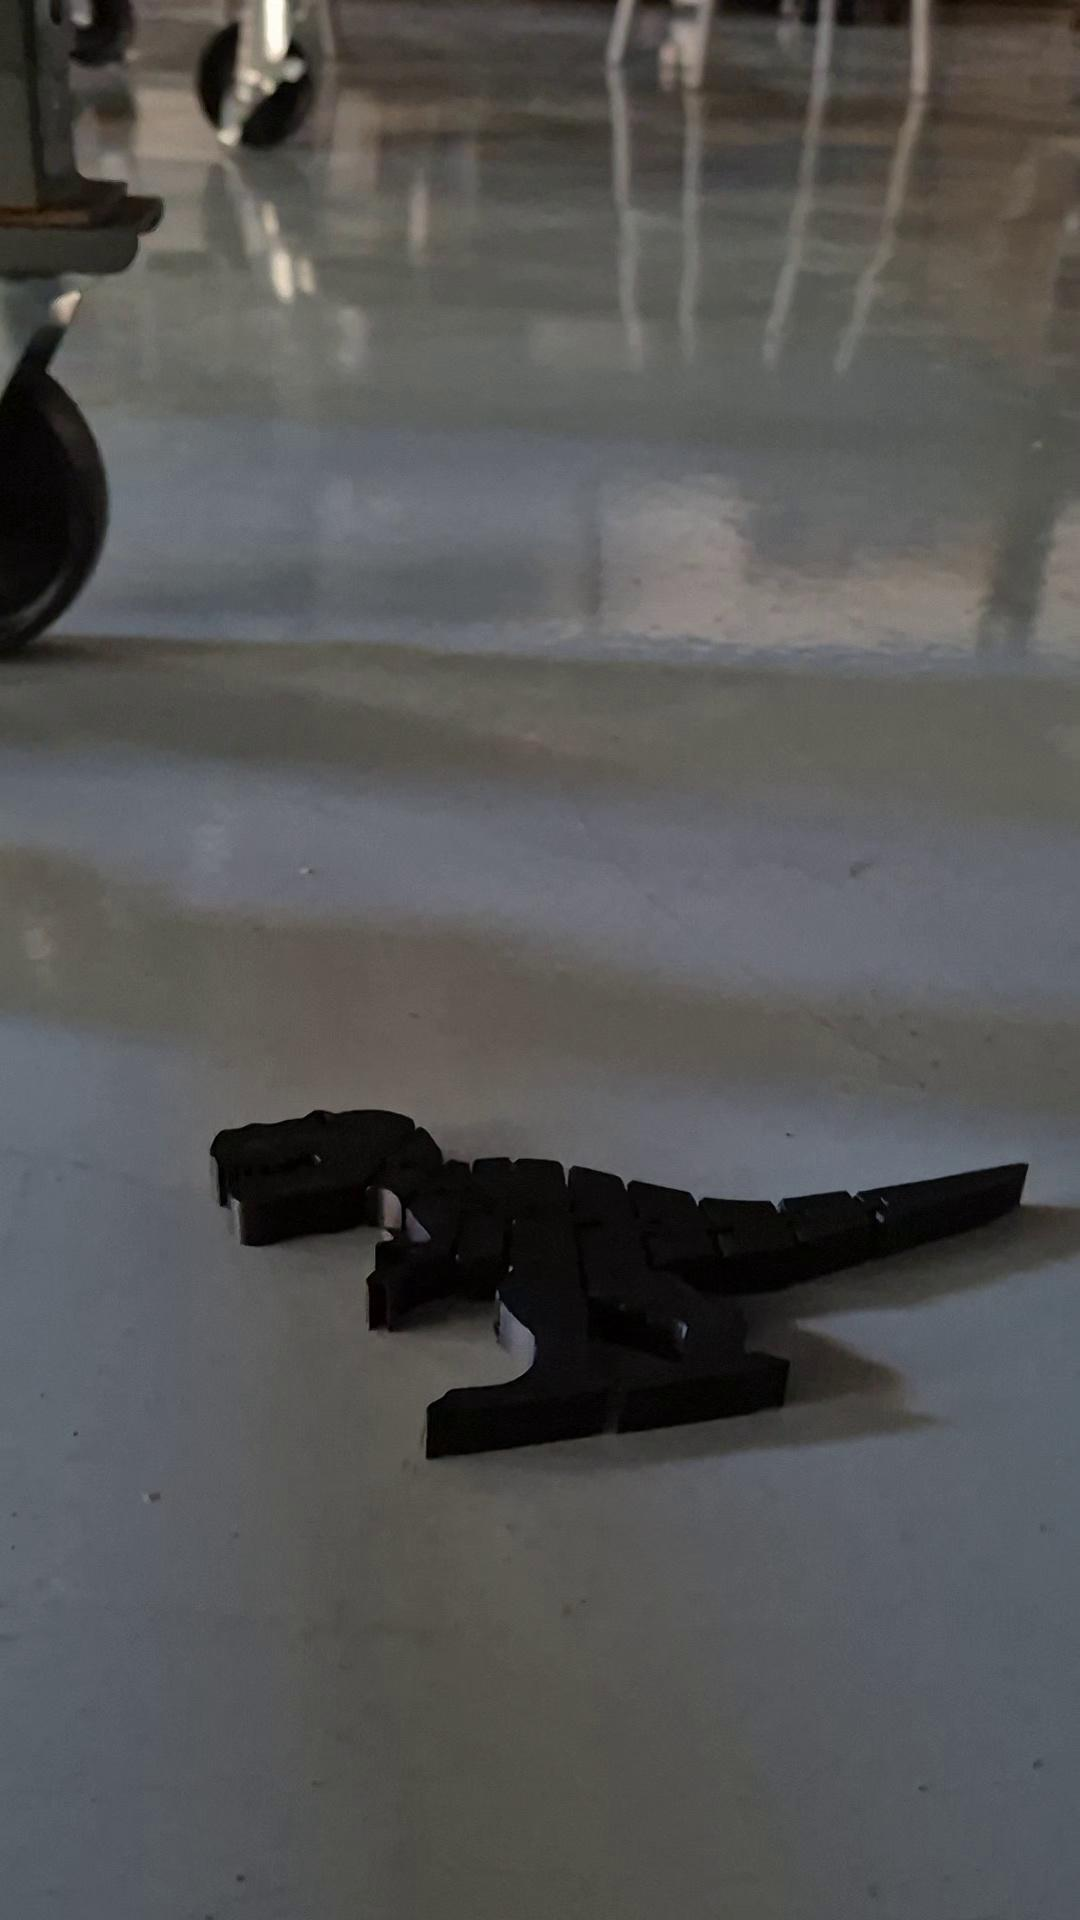dinosaur: (206, 1105, 1031, 1462)
